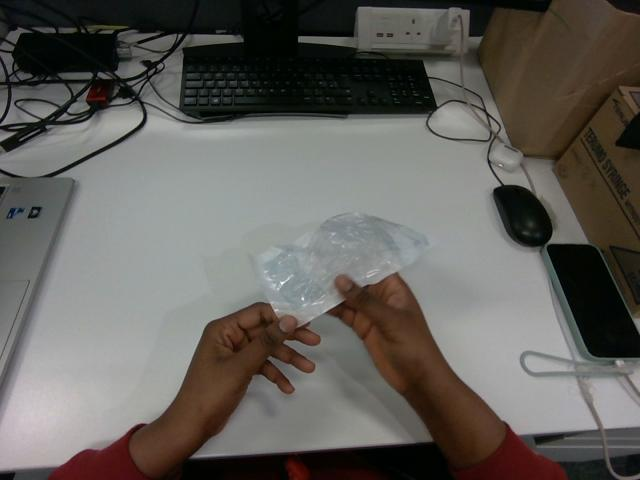gallipot: (251, 213, 427, 324)
